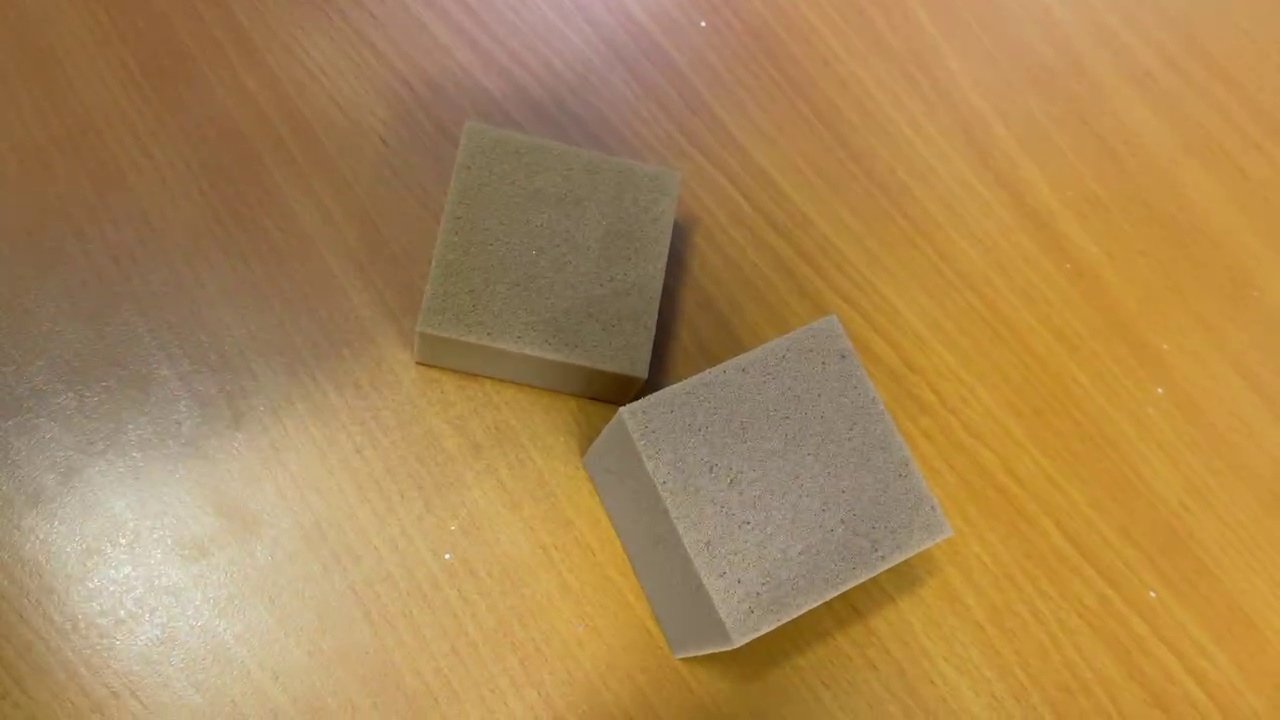Cube: (576, 306, 958, 674)
Cube_short: (410, 113, 684, 413)
